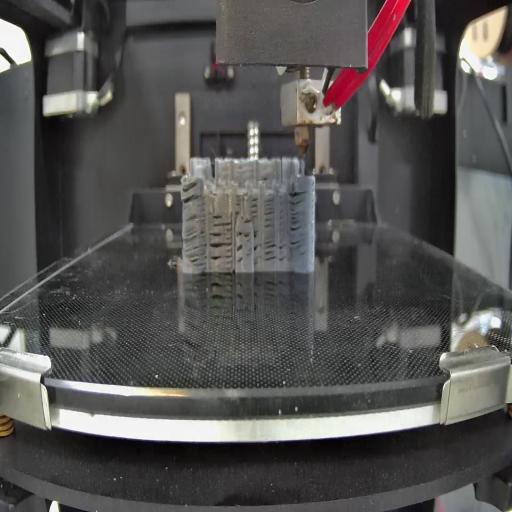cracks: (288, 191, 307, 257), (182, 232, 208, 267), (210, 232, 233, 265), (181, 182, 202, 204), (262, 199, 274, 229), (263, 238, 276, 265), (211, 214, 233, 227), (235, 244, 244, 267), (184, 215, 206, 224), (253, 244, 262, 266), (235, 230, 259, 238), (278, 196, 284, 227), (251, 198, 258, 219), (234, 196, 241, 216), (278, 245, 286, 262), (259, 176, 271, 182)
